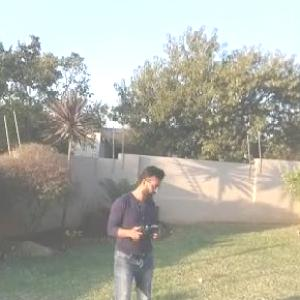follow: (106, 162, 168, 299)
